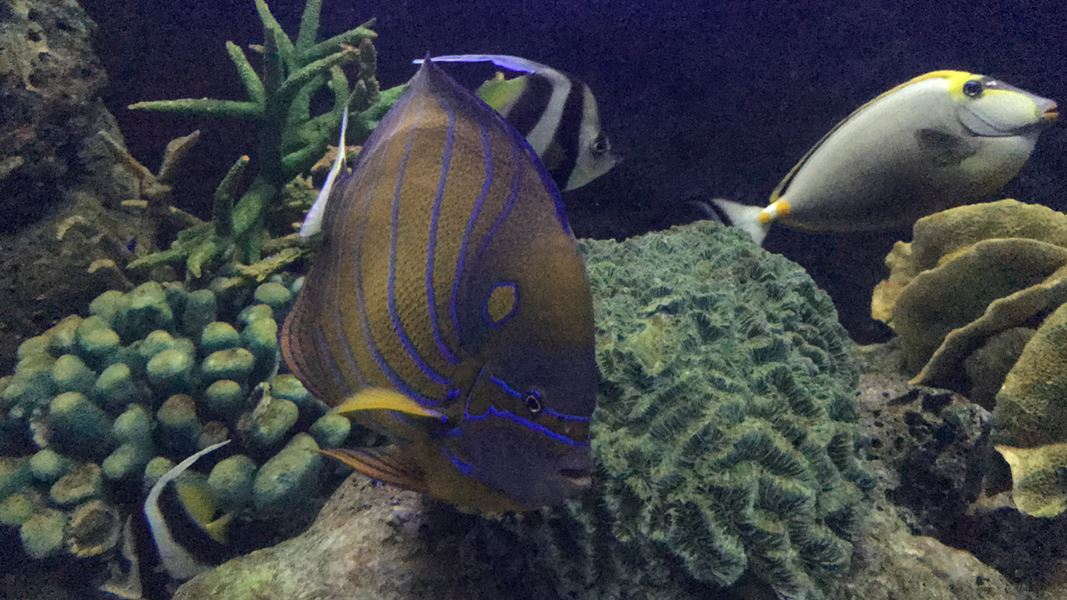Blue ring angelfish: (237, 48, 612, 538)
